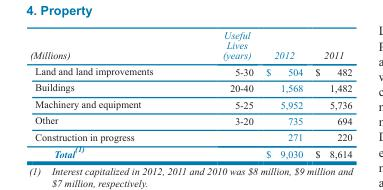table: (29, 29, 351, 159)
table column: (29, 29, 187, 159), (187, 29, 259, 159), (259, 29, 308, 159), (308, 29, 351, 159)
table column header: (29, 29, 351, 62)
table row: (29, 29, 351, 62), (29, 62, 351, 79), (29, 95, 351, 112), (29, 79, 351, 95), (29, 112, 351, 128), (29, 143, 351, 159), (29, 128, 351, 143)
